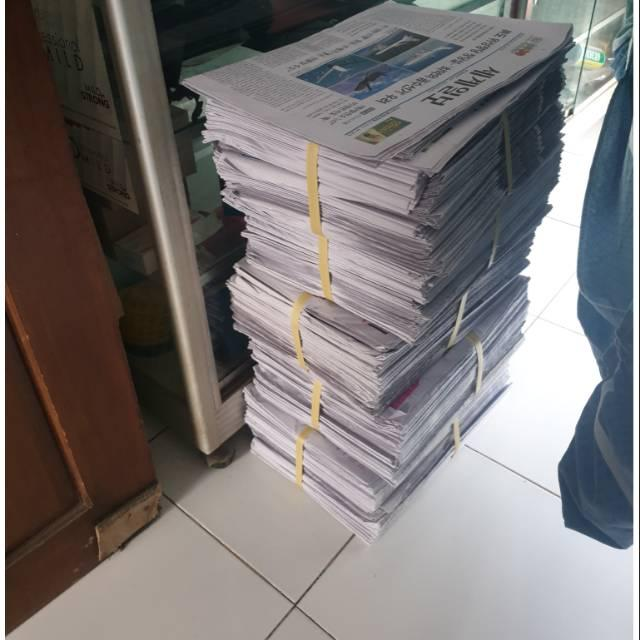Koran: (172, 0, 563, 337), (221, 254, 533, 544)
